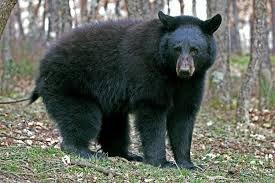bear: (34, 9, 221, 169)
